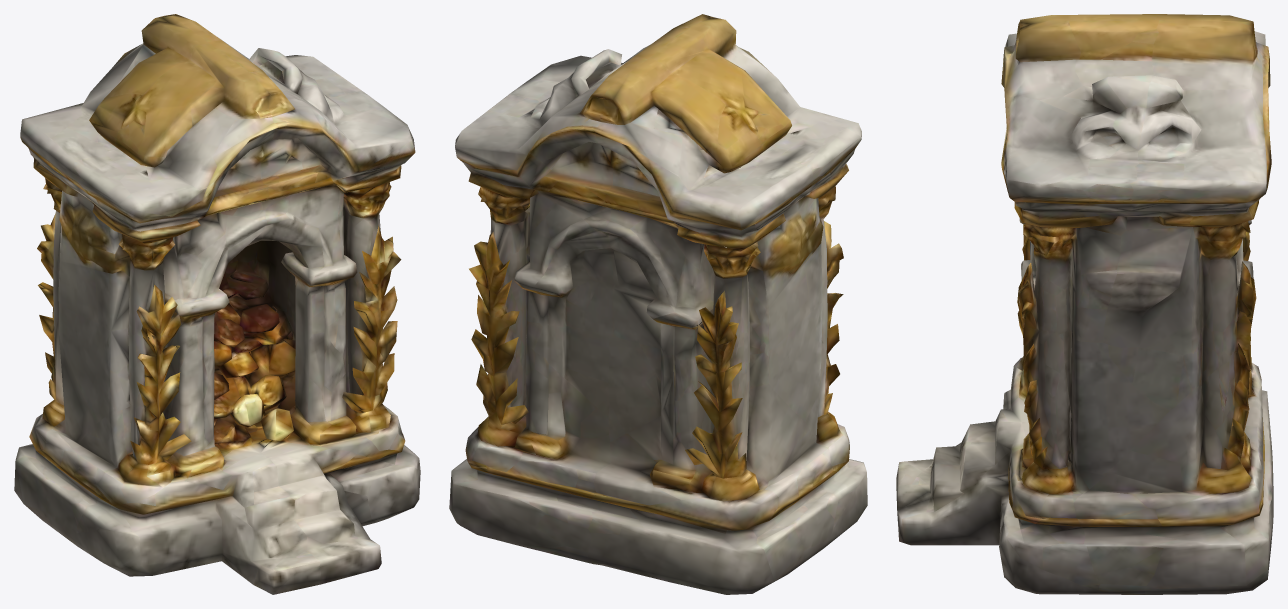
File: treasury.glb
The picture shows the model from 3 angles, left to right: view 1: azimuth 30°, elevation 25°; view 2: azimuth 150°, elevation 25°; view 3: azimuth 270°, elevation 25°; orthographic projection. The views are drawn at different scales.
Visible parts, largest first — view 1: tripo_node_fc4be636-6611-41c6-beca-b905eb355457; view 2: tripo_node_fc4be636-6611-41c6-beca-b905eb355457; view 3: tripo_node_fc4be636-6611-41c6-beca-b905eb355457.
Part boxes in pixels (<box>): tripo_node_fc4be636-6611-41c6-beca-b905eb355457: <box>14,14,420,594</box>; tripo_node_fc4be636-6611-41c6-beca-b905eb355457: <box>449,14,867,594</box>; tripo_node_fc4be636-6611-41c6-beca-b905eb355457: <box>896,14,1273,594</box>.
Bounding box in the file's own units: 0.6983 × 0.9787 × 0.6741.
1 material, 1 textured.
